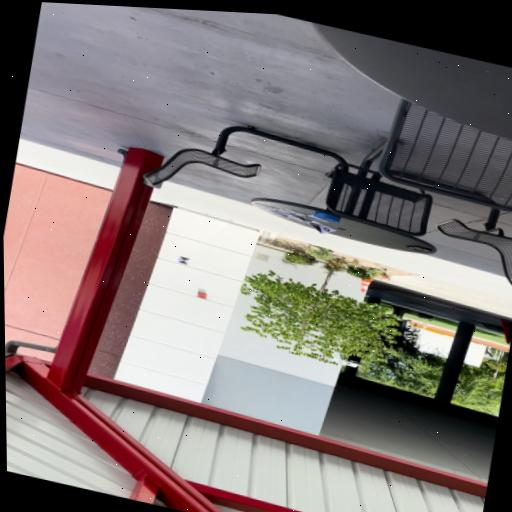target6: (177, 255, 190, 265)
